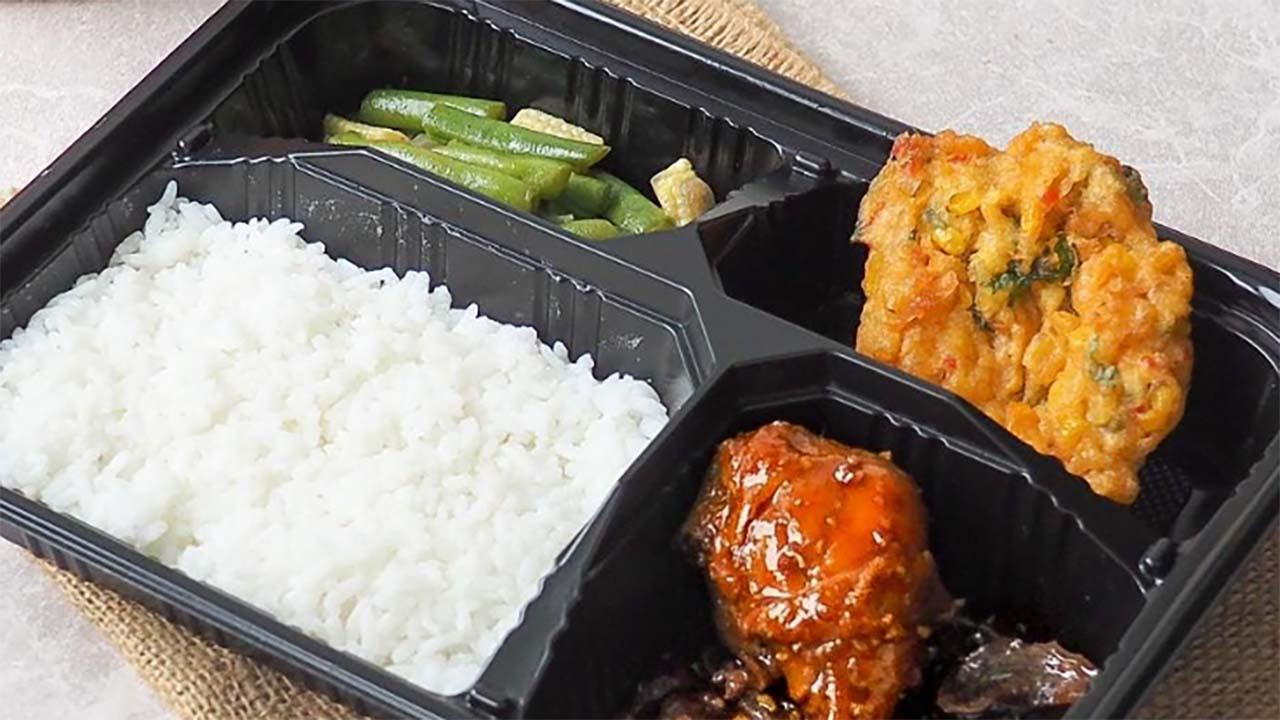buah_sayur_lainnya: (374, 83, 621, 180)
daging: (736, 457, 879, 720)
makanan_berpati: (81, 269, 439, 521), (904, 149, 1137, 370)
